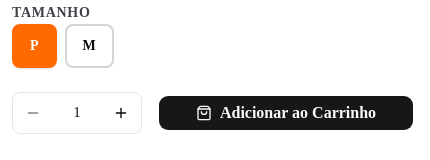
Test: AddToCartButton › has no ceiling for an untracked combination
The width and height of the screenshot is (430, 160).
Click the button named "Aumentar quantidade". click: (121, 113)
box: top-left (101, 93), bottom-right (141, 133)
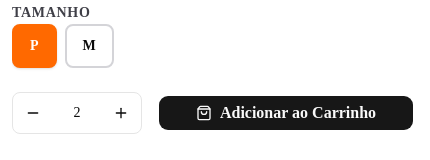
Click the button named "Aumentar quantidade". click: (121, 113)
box: top-left (101, 93), bottom-right (141, 133)
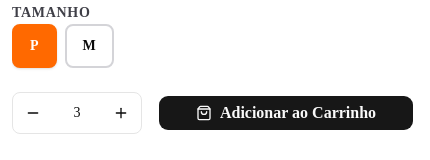
Click the button named "Aumentar quantidade". click: (121, 113)
box: top-left (101, 93), bottom-right (141, 133)
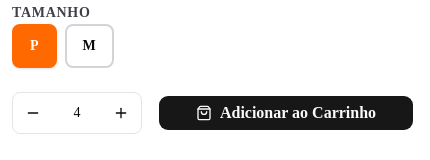
Expected: the text "4" is shown, top-left (74, 105), bottom-right (80, 120)
